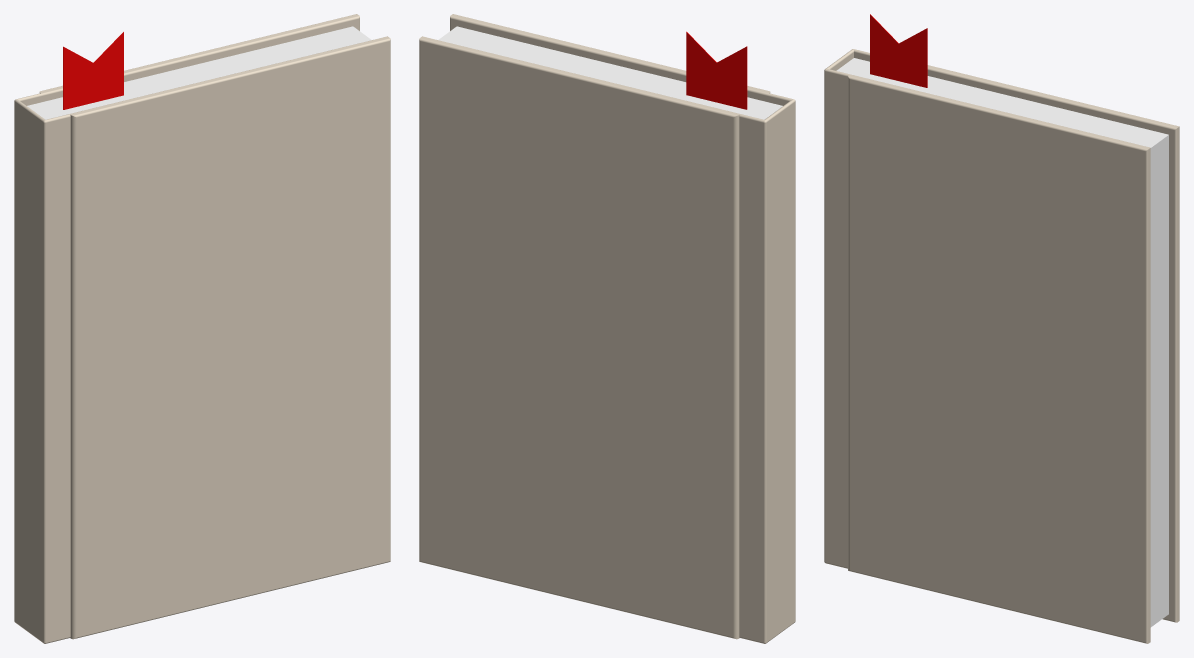
The model's file is semibook.gltf.
The picture shows the model from 3 angles, left to right: view 1: azimuth 30°, elevation 25°; view 2: azimuth 150°, elevation 25°; view 3: azimuth 330°, elevation 25°; orthographic projection. The views are drawn at different scales.
Visible parts, largest first — view 1: Part 1 (×6); view 2: Part 1 (×6); view 3: Part 1 (×6).
Boxes of the visible parts, box(x1,y1,x2,y2) form: Part 1 (×6): box(14, 14, 390, 643); Part 1 (×6): box(419, 14, 795, 643); Part 1 (×6): box(824, 14, 1179, 643).
Size of the model in its own units: 0.1445 by 0.2318 by 0.0254.
